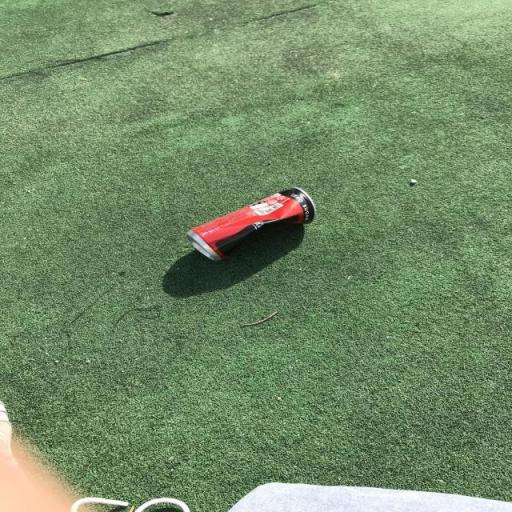metal: (178, 181, 324, 272)
